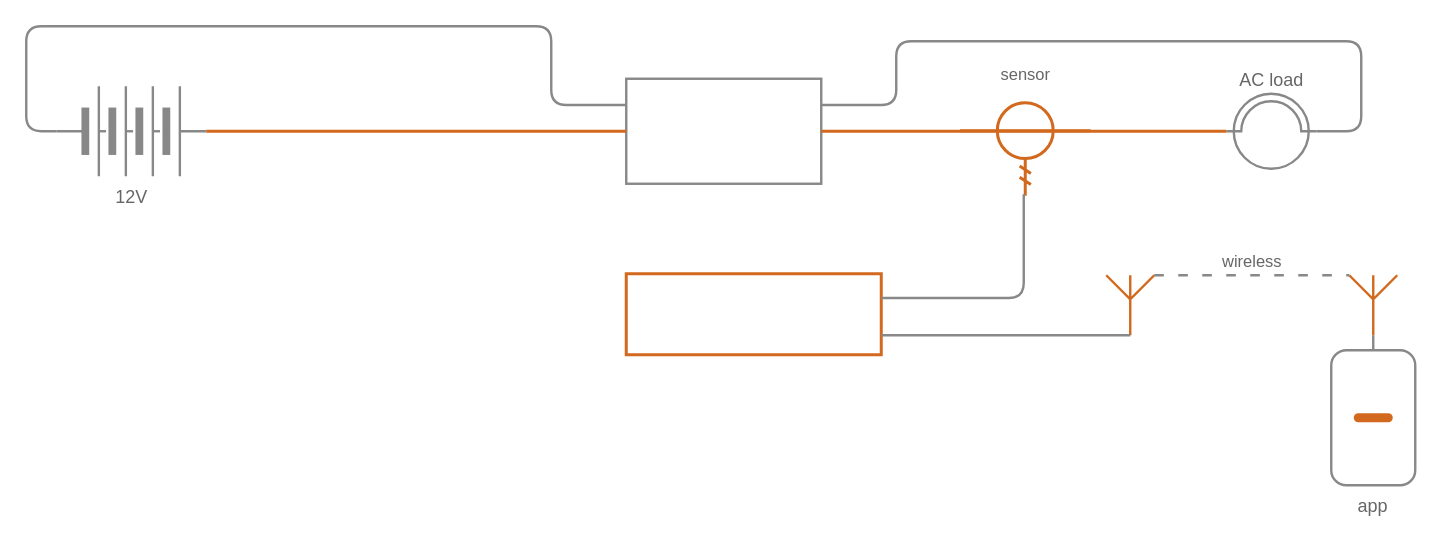
Image size: 1443x543. Some labels were removed from this diagram. Each missing label, with the box of its shape:
INVERTER DC → AC: (624, 77, 822, 184)
MCU · on-device ML: (624, 272, 882, 356)
